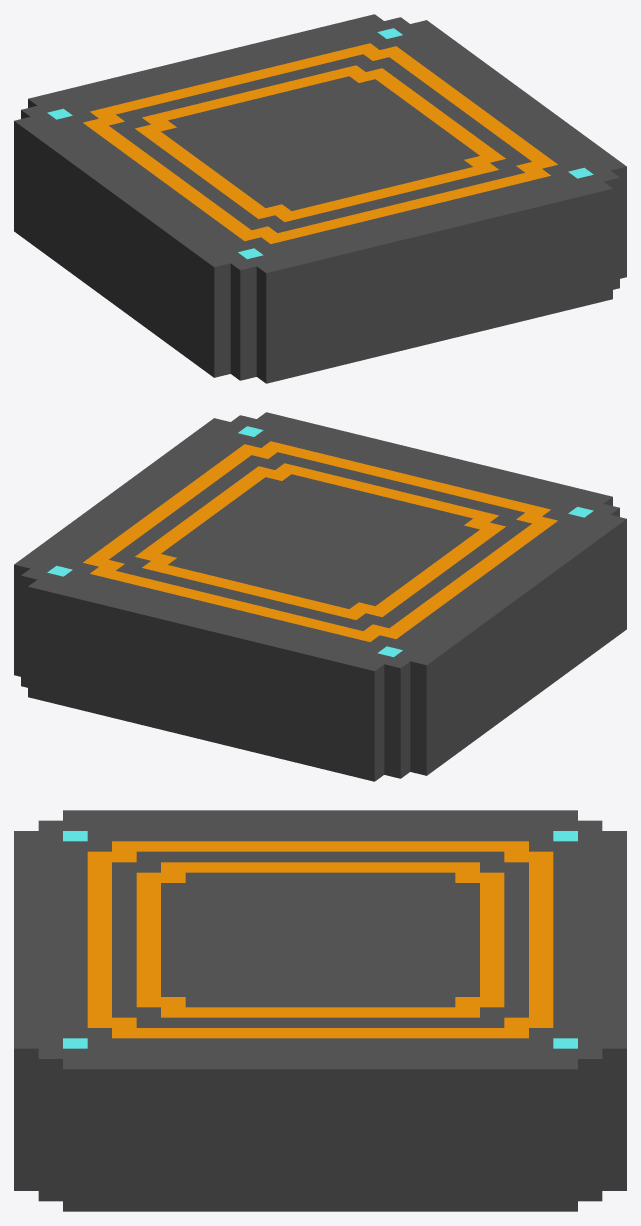
File: soporte.glb
3 renders of one model, top to bottom at view 1: azimuth 30°, elevation 25°; view 2: azimuth 150°, elevation 25°; view 3: azimuth 270°, elevation 25°, orthographic. The views are drawn at different scales.
Parts seen in each view (by area): view 1: Object_2; view 2: Object_2; view 3: Object_2.
Part boxes in pixels (<box>): Object_2: <box>14,14,626,383</box>; Object_2: <box>14,412,626,781</box>; Object_2: <box>14,810,626,1211</box>.
Size of the model in its own units: 2.5 by 0.64 by 2.5.
1 material, 1 textured.
